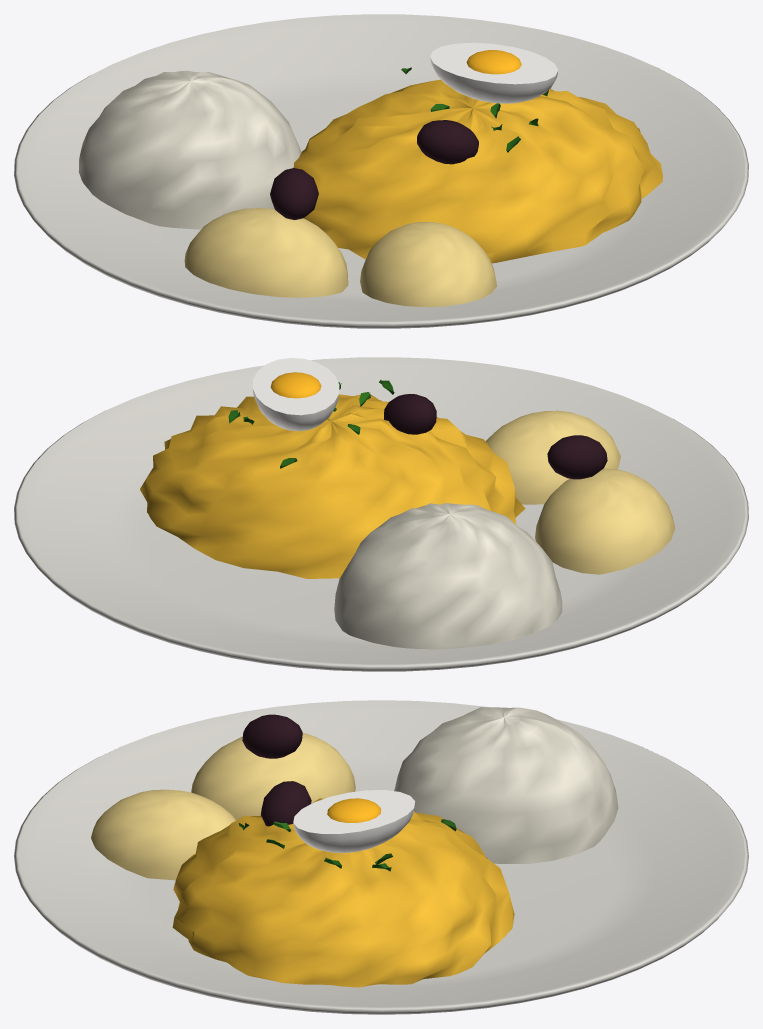
File: aji-de-gallina.glb
The picture shows the model from 3 angles, top to bottom: view 1: azimuth 30°, elevation 25°; view 2: azimuth 150°, elevation 25°; view 3: azimuth 270°, elevation 25°; orthographic projection.
Parts seen in each view (by area): view 1: aji-de-gallina; view 2: aji-de-gallina; view 3: aji-de-gallina.
Boxes of the visible parts, x1,y1,x2,y2 form: aji-de-gallina: (14,14,748,328); aji-de-gallina: (14,357,748,671); aji-de-gallina: (14,700,748,1014).
Size of the model in its own units: 0.27 by 0.0615 by 0.27.
